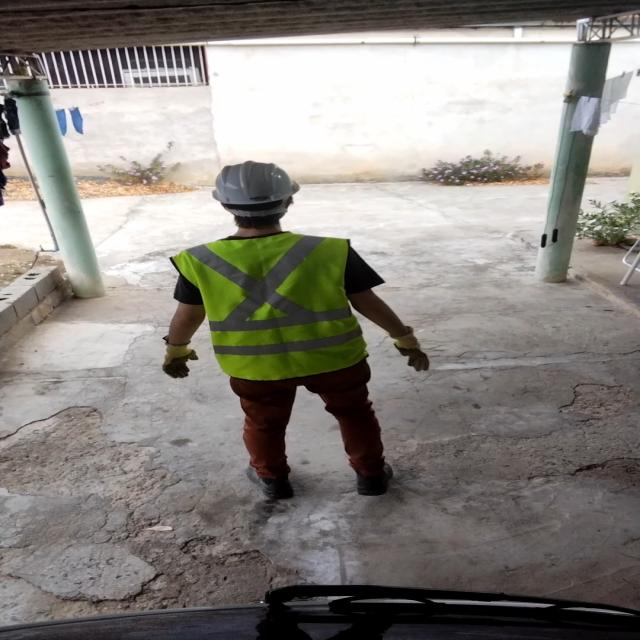glove: (381, 324, 438, 374), (157, 335, 207, 383)
helmet: (199, 158, 305, 214)
pants: (219, 370, 391, 482)
vest: (184, 231, 364, 380)
